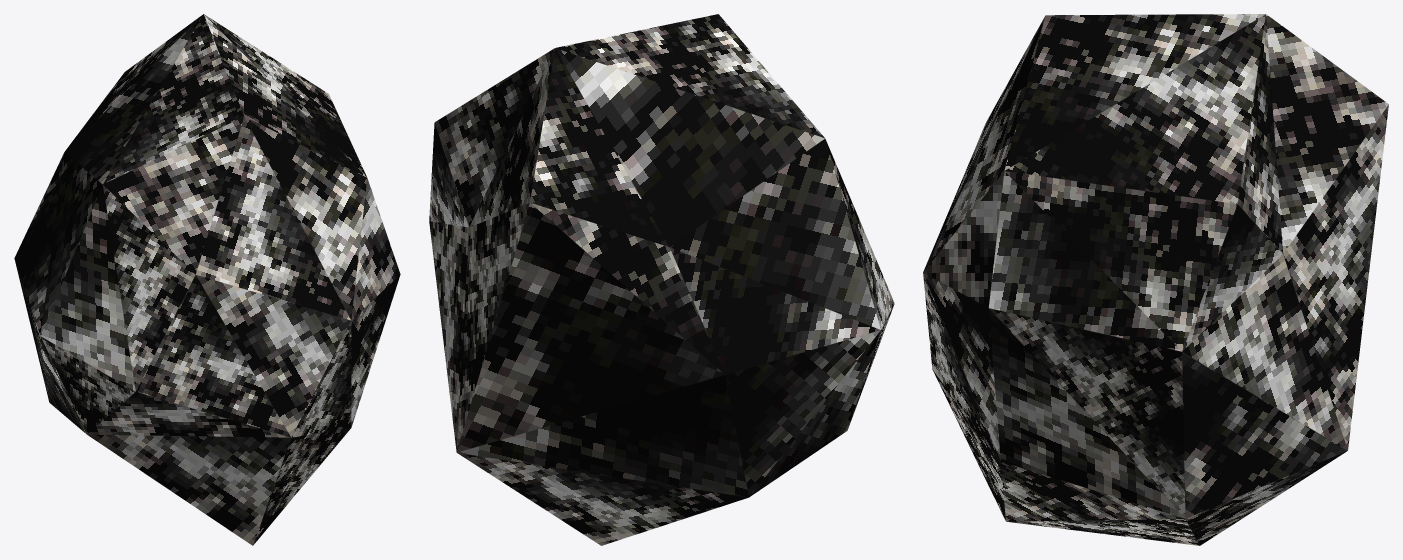
The model's file is grey_asteroid.fbx.
3 views of the same model, side by side, from view 1: azimuth 30°, elevation 25°; view 2: azimuth 150°, elevation 25°; view 3: azimuth 270°, elevation 25° (orthographic). The views are drawn at different scales.
Parts seen in each view (by area): view 1: grey_asteroid; view 2: grey_asteroid; view 3: grey_asteroid.
Part boxes in pixels (bbox=[...]): grey_asteroid: bbox=[14, 14, 400, 545]; grey_asteroid: bbox=[429, 14, 894, 545]; grey_asteroid: bbox=[923, 14, 1388, 545].
Size of the model in its own units: 30824 by 35992 by 28058.
Materials: 1 (1 with a texture image).
